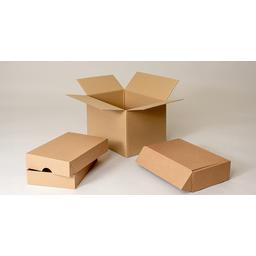cardboard: (67, 85, 209, 156), (133, 135, 238, 196), (16, 125, 108, 172)
